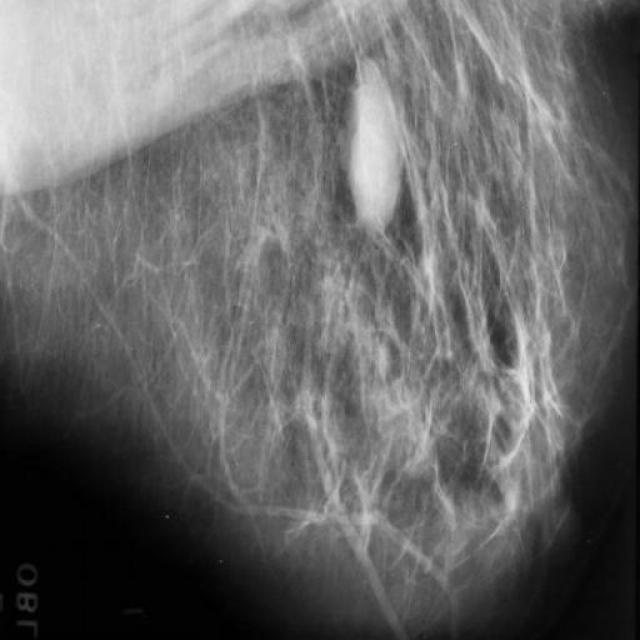cancer: (320, 478, 390, 594)
